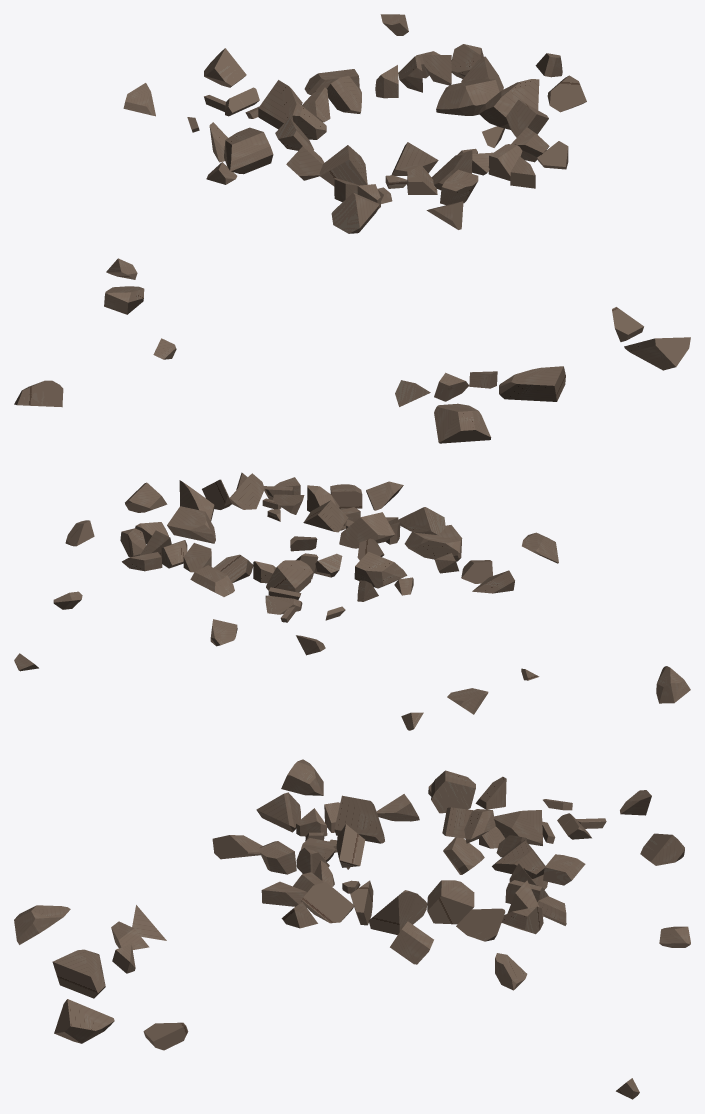
Rendered from rubble.gltf.
The picture shows the model from 3 angles, top to bottom: view 1: azimuth 30°, elevation 25°; view 2: azimuth 150°, elevation 25°; view 3: azimuth 270°, elevation 25°; orthographic projection. The views are drawn at different scales.
Visible parts, largest first — view 1: Cube_cell.065, Cube_cell.057, Cube_cell.087, Cube_cell.028, Cube_cell.041, Cube_cell.063, Cube_cell.072, Cube_cell.056, Cube_cell.066, Cube_cell.026, Cube_cell.046, Cube_cell.073 (+18 smaller); view 2: Cube_cell.065, Cube_cell.072, Cube_cell.028, Cube_cell.087, Cube_cell.066, Cube_cell.056, Cube_cell.046, Rubble, Cube_cell.088, Cube_cell.075, Cube_cell.042, Cube_cell.057 (+19 smaller); view 3: Cube_cell.065, Cube_cell.028, Cube_cell.063, Cube_cell.072, Cube_cell.041, Cube_cell.087, Cube_cell.075, Cube_cell.066, Cube_cell.057, Cube_cell.060, Cube_cell.042, Cube_cell.026 (+26 smaller).
Part boxes in pixels (x1,y1,x2,y2): Cube_cell.065: (499, 366, 565, 401); Cube_cell.057: (434, 403, 491, 443); Cube_cell.087: (224, 127, 273, 174); Cube_cell.028: (436, 79, 499, 115); Cube_cell.041: (479, 79, 539, 129); Cube_cell.063: (624, 337, 690, 370); Cube_cell.072: (319, 145, 367, 186); Cube_cell.056: (331, 192, 379, 233); Cube_cell.066: (258, 80, 302, 129); Cube_cell.026: (327, 76, 361, 113); Cube_cell.046: (14, 380, 63, 407); Cube_cell.073: (204, 48, 246, 87); Cube_cell.065: (404, 525, 462, 561); Cube_cell.072: (339, 512, 394, 548); Cube_cell.028: (167, 506, 215, 543); Cube_cell.087: (354, 552, 407, 588); Cube_cell.066: (266, 560, 313, 592); Cube_cell.056: (398, 507, 445, 535); Cube_cell.046: (656, 666, 690, 703); Rubble: (303, 500, 348, 532); Cube_cell.088: (190, 565, 234, 596); Cube_cell.075: (230, 473, 264, 509); Cube_cell.042: (125, 482, 167, 512); Cube_cell.057: (522, 532, 558, 563); Cube_cell.065: (52, 949, 105, 998); Cube_cell.028: (427, 880, 474, 924); Cube_cell.063: (54, 999, 114, 1043); Cube_cell.072: (334, 795, 384, 843); Cube_cell.041: (368, 890, 427, 934); Cube_cell.087: (431, 770, 475, 813); Cube_cell.075: (300, 882, 353, 923); Cube_cell.066: (494, 810, 542, 845); Cube_cell.057: (14, 905, 70, 944); Cube_cell.060: (456, 908, 505, 941); Cube_cell.042: (390, 921, 433, 964); Cube_cell.026: (492, 840, 545, 878).
Bounding box in the file's own units: 3.72 × 0.9004 × 3.32.
Materials: 1 (1 with a texture image).
